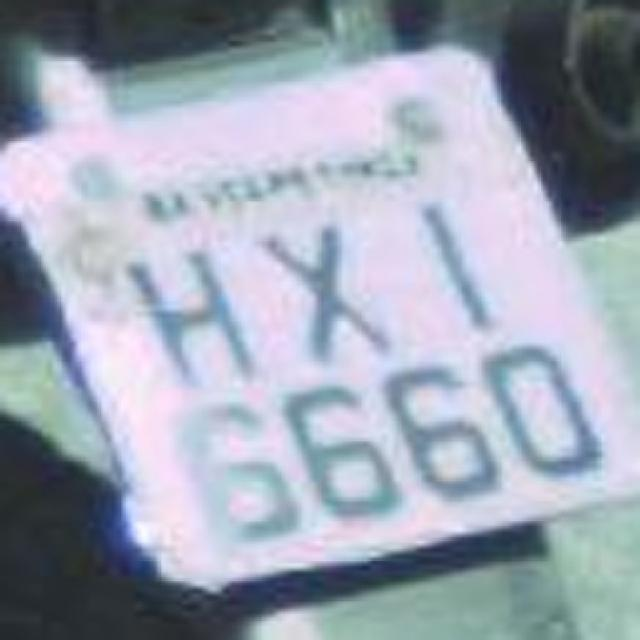0: (465, 320, 620, 495)
6: (268, 352, 408, 540), (164, 384, 316, 551), (360, 340, 500, 512)
H: (129, 225, 256, 400)
X: (252, 200, 392, 365)
